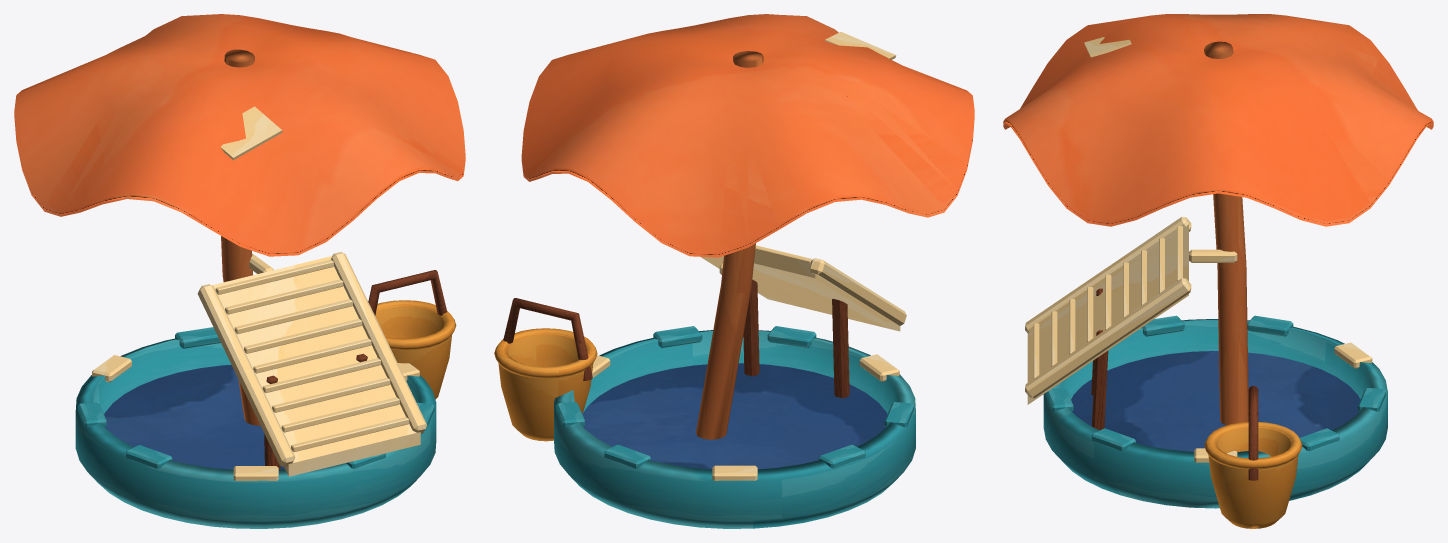
The model's file is revised-10-03.glb.
3 renders of one model, left to right at view 1: azimuth 30°, elevation 25°; view 2: azimuth 150°, elevation 25°; view 3: azimuth 270°, elevation 25°, orthographic. The views are drawn at different scales.
Parts seen in each view (by area): view 1: mushroom_wash; view 2: mushroom_wash; view 3: mushroom_wash.
Part boxes in pixels (bbox=[...]): mushroom_wash: bbox=[14, 14, 465, 528]; mushroom_wash: bbox=[494, 14, 974, 528]; mushroom_wash: bbox=[1003, 14, 1433, 528].
Bounding box in the file's own units: 1.74 × 1.58 × 1.6.
1 material, 1 textured.
